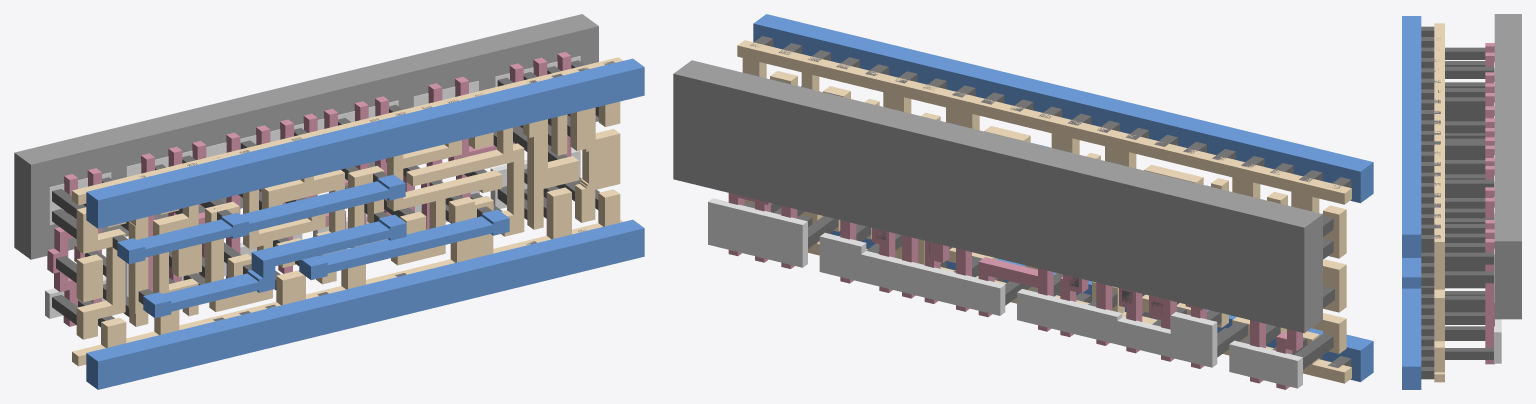
File: sky130_fd_sc_hd__dfstp_2.gds.gltf
3 views of the same model, side by side, from view 1: azimuth 30°, elevation 25°; view 2: azimuth 150°, elevation 25°; view 3: azimuth 270°, elevation 25° (orthographic). The views are drawn at different scales.
Parts seen in each view (by area): view 1: sky130_fd_sc_hd__dfstp_2_met1, sky130_fd_sc_hd__dfstp_2_li1, sky130_fd_sc_hd__dfstp_2_nwell, sky130_fd_sc_hd__dfstp_2_poly, sky130_fd_sc_hd__dfstp_2_licon, sky130_fd_sc_hd__dfstp_2_diff, sky130_fd_sc_hd__dfstp_2_mcon; view 2: sky130_fd_sc_hd__dfstp_2_nwell, sky130_fd_sc_hd__dfstp_2_li1, sky130_fd_sc_hd__dfstp_2_diff, sky130_fd_sc_hd__dfstp_2_met1, sky130_fd_sc_hd__dfstp_2_poly, sky130_fd_sc_hd__dfstp_2_licon, sky130_fd_sc_hd__dfstp_2_mcon; view 3: sky130_fd_sc_hd__dfstp_2_licon, sky130_fd_sc_hd__dfstp_2_nwell, sky130_fd_sc_hd__dfstp_2_met1, sky130_fd_sc_hd__dfstp_2_mcon, sky130_fd_sc_hd__dfstp_2_li1, sky130_fd_sc_hd__dfstp_2_poly, sky130_fd_sc_hd__dfstp_2_diff.
Part boxes in pixels (left/top/right/bottom): sky130_fd_sc_hd__dfstp_2_met1: left=86, top=58, right=644, bottom=389; sky130_fd_sc_hd__dfstp_2_li1: left=72, top=57, right=622, bottom=366; sky130_fd_sc_hd__dfstp_2_nwell: left=14, top=14, right=598, bottom=259; sky130_fd_sc_hd__dfstp_2_poly: left=47, top=52, right=571, bottom=326; sky130_fd_sc_hd__dfstp_2_licon: left=52, top=60, right=599, bottom=327; sky130_fd_sc_hd__dfstp_2_diff: left=45, top=56, right=580, bottom=318; sky130_fd_sc_hd__dfstp_2_mcon: left=112, top=61, right=614, bottom=321; sky130_fd_sc_hd__dfstp_2_nwell: left=673, top=60, right=1322, bottom=333; sky130_fd_sc_hd__dfstp_2_li1: left=737, top=40, right=1351, bottom=383; sky130_fd_sc_hd__dfstp_2_diff: left=708, top=198, right=1302, bottom=388; sky130_fd_sc_hd__dfstp_2_met1: left=753, top=14, right=1373, bottom=381; sky130_fd_sc_hd__dfstp_2_poly: left=728, top=193, right=1302, bottom=389; sky130_fd_sc_hd__dfstp_2_licon: left=744, top=73, right=1334, bottom=369; sky130_fd_sc_hd__dfstp_2_mcon: left=750, top=36, right=1351, bottom=367; sky130_fd_sc_hd__dfstp_2_licon: left=1445, top=47, right=1493, bottom=359; sky130_fd_sc_hd__dfstp_2_nwell: left=1494, top=14, right=1521, bottom=319; sky130_fd_sc_hd__dfstp_2_met1: left=1402, top=16, right=1421, bottom=389; sky130_fd_sc_hd__dfstp_2_mcon: left=1421, top=26, right=1440, bottom=379; sky130_fd_sc_hd__dfstp_2_li1: left=1434, top=23, right=1444, bottom=382; sky130_fd_sc_hd__dfstp_2_poly: left=1485, top=43, right=1494, bottom=364; sky130_fd_sc_hd__dfstp_2_diff: left=1494, top=62, right=1501, bottom=363.
Bounding box in the file's own units: 10.04 × 3.2 × 2.24.
